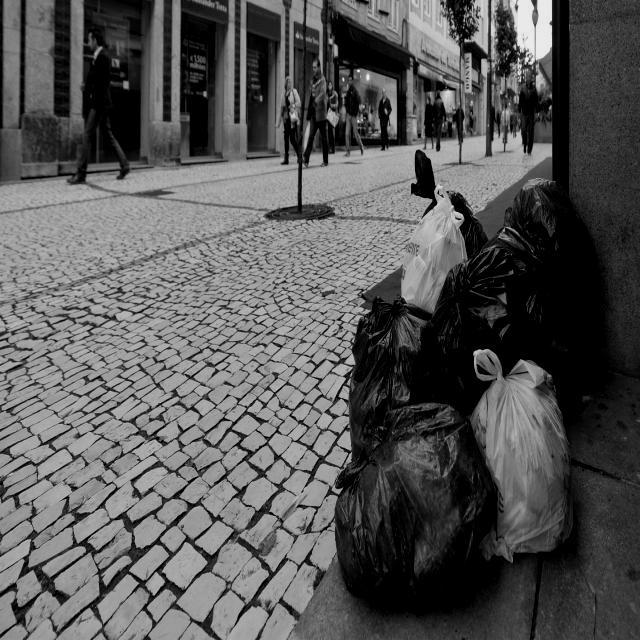high trash: (335, 151, 601, 609)
